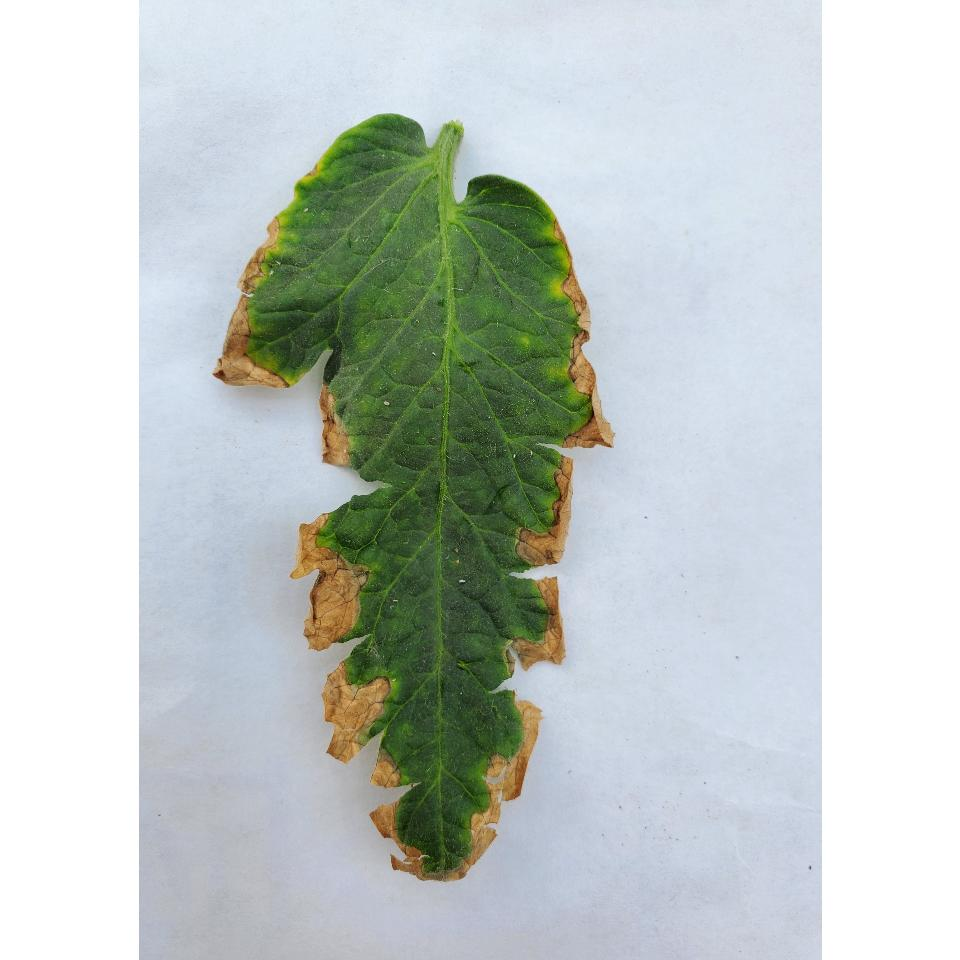tomato_bacterial_blight: (206, 105, 618, 887)
